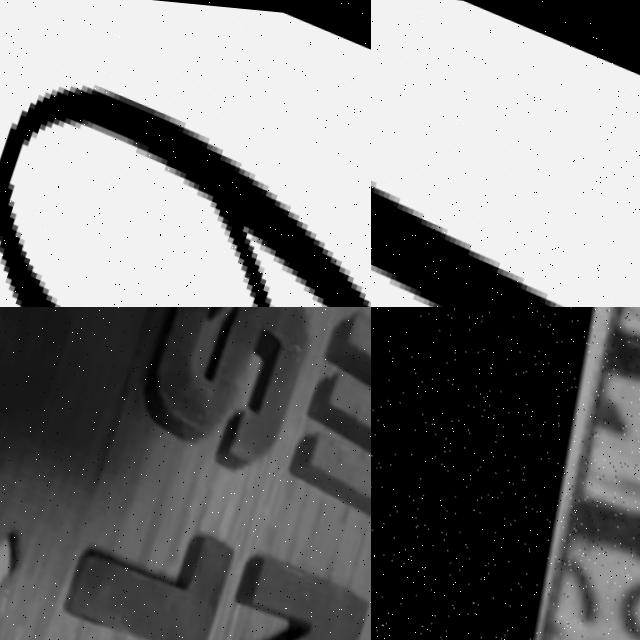6: (0, 36, 371, 307)
L: (371, 57, 640, 307)
M: (289, 307, 371, 520)
N: (197, 533, 371, 640)
S: (131, 307, 323, 471)
T: (48, 481, 238, 640)
